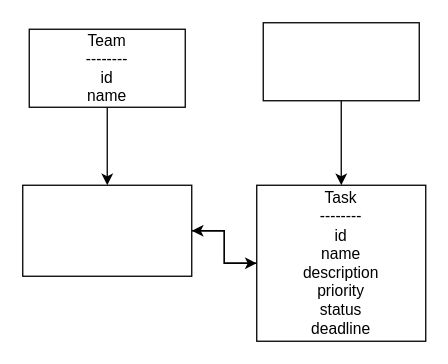
Image size: 448x364. Some labels were removed from this diagram. The shapes that lost their labels are listed below. From the top down, each one's centre as x and y in pixels, then its label:
At [340,61]: "TaskType -------- id name".
At [106,230]: "Worker -------- id name position".
